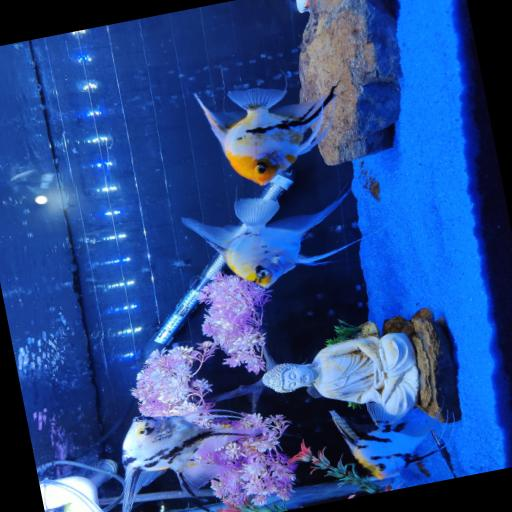Fish: (183, 190, 356, 288), (195, 86, 336, 185), (123, 410, 260, 511), (331, 403, 437, 479)
